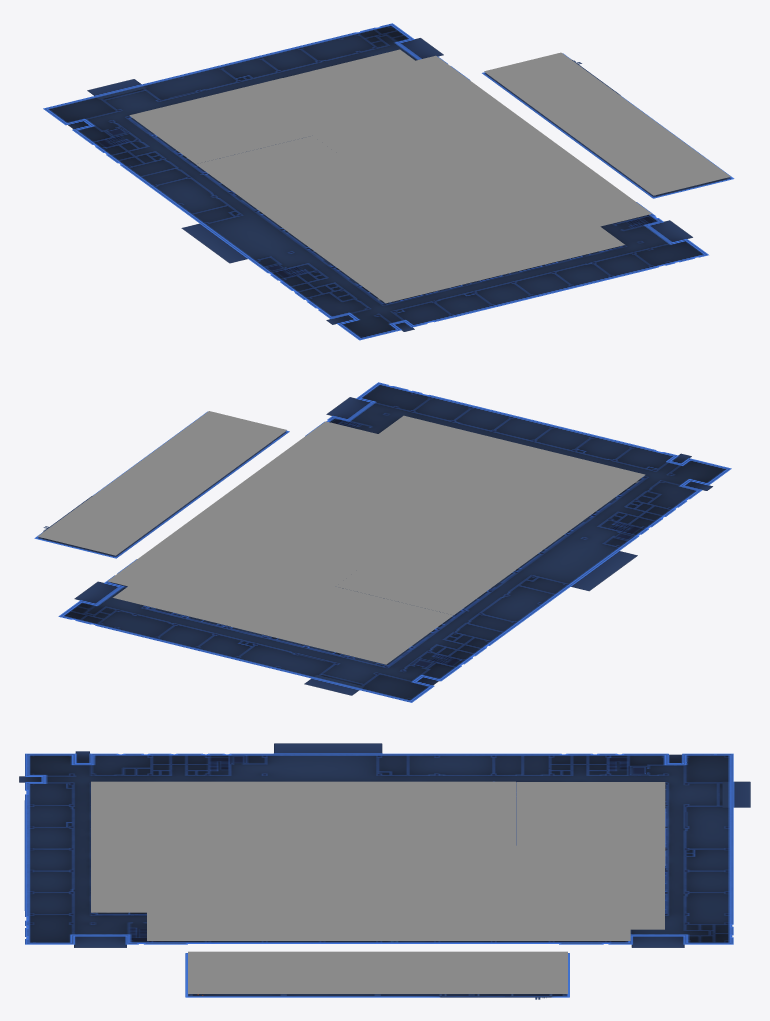
The model's file is Internal-LayoutofCKL.FBX.
3 renders of one model, top to bottom at view 1: azimuth 30°, elevation 25°; view 2: azimuth 150°, elevation 25°; view 3: azimuth 270°, elevation 25°, orthographic. The views are drawn at different scales.
Visible parts, largest first — view 1: Internal LayoutofCKL, AHU02Plane, AHU07Plane, LQLEPPlane, AHU05Plane, AHU04Plane, AHU06Plane, AHU03Plane, AHU01Plane, AHU08Plane, Internal LayoutofCKL01; view 2: Internal LayoutofCKL, AHU02Plane, AHU07Plane, LQLEPPlane, AHU05Plane, AHU04Plane, AHU06Plane, AHU03Plane, AHU01Plane, AHU08Plane, Internal LayoutofCKL01; view 3: Internal LayoutofCKL, AHU02Plane, AHU07Plane, LQLEPPlane, AHU04Plane, AHU05Plane, AHU06Plane, AHU03Plane, AHU01Plane, AHU08Plane, Internal LayoutofCKL01.
Boxes of the visible parts, x1=… form: Internal LayoutofCKL: x1=43, y1=23, x2=708, y2=340; AHU02Plane: x1=129, y1=78, x2=495, y2=163; AHU07Plane: x1=328, y1=193, x2=651, y2=303; LQLEPPlane: x1=484, y1=52, x2=730, y2=195; AHU05Plane: x1=317, y1=149, x2=598, y2=227; AHU04Plane: x1=233, y1=120, x2=573, y2=227; AHU06Plane: x1=282, y1=175, x2=624, y2=261; AHU03Plane: x1=196, y1=99, x2=523, y2=191; AHU01Plane: x1=283, y1=55, x2=470, y2=118; AHU08Plane: x1=312, y1=49, x2=444, y2=89; Internal LayoutofCKL01: x1=482, y1=53, x2=734, y2=198; Internal LayoutofCKL: x1=58, y1=382, x2=731, y2=702; AHU02Plane: x1=143, y1=537, x2=452, y2=664; AHU07Plane: x1=298, y1=415, x2=645, y2=516; LQLEPPlane: x1=38, y1=411, x2=286, y2=555; AHU05Plane: x1=246, y1=460, x2=500, y2=555; AHU04Plane: x1=197, y1=479, x2=541, y2=587; AHU06Plane: x1=272, y1=442, x2=587, y2=550; AHU03Plane: x1=168, y1=516, x2=490, y2=615; AHU01Plane: x1=107, y1=555, x2=287, y2=626; AHU08Plane: x1=113, y1=564, x2=215, y2=619; Internal LayoutofCKL01: x1=34, y1=411, x2=289, y2=558; Internal LayoutofCKL: x1=19, y1=743, x2=750, y2=947; AHU02Plane: x1=461, y1=782, x2=665, y2=940; AHU07Plane: x1=91, y1=781, x2=218, y2=940; LQLEPPlane: x1=188, y1=951, x2=567, y2=993; AHU04Plane: x1=322, y1=781, x2=433, y2=940; AHU05Plane: x1=265, y1=815, x2=381, y2=940; AHU06Plane: x1=208, y1=781, x2=321, y2=940; AHU03Plane: x1=433, y1=781, x2=515, y2=940; AHU01Plane: x1=539, y1=866, x2=664, y2=940; AHU08Plane: x1=563, y1=881, x2=664, y2=929; Internal LayoutofCKL01: x1=185, y1=953, x2=569, y2=999.
Bounding box in the file's own units: 83.99 × 0.3206 × 100.
